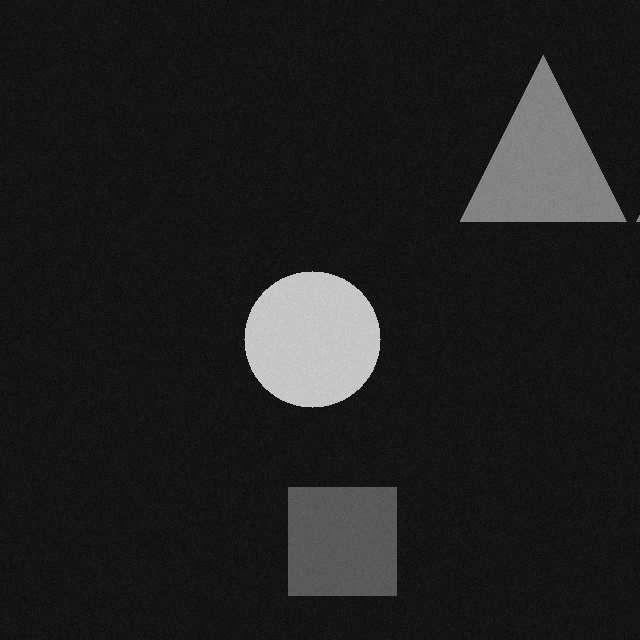circle: (252, 286, 388, 422)
square: (296, 502, 404, 610)
triangle: (468, 70, 634, 236)
